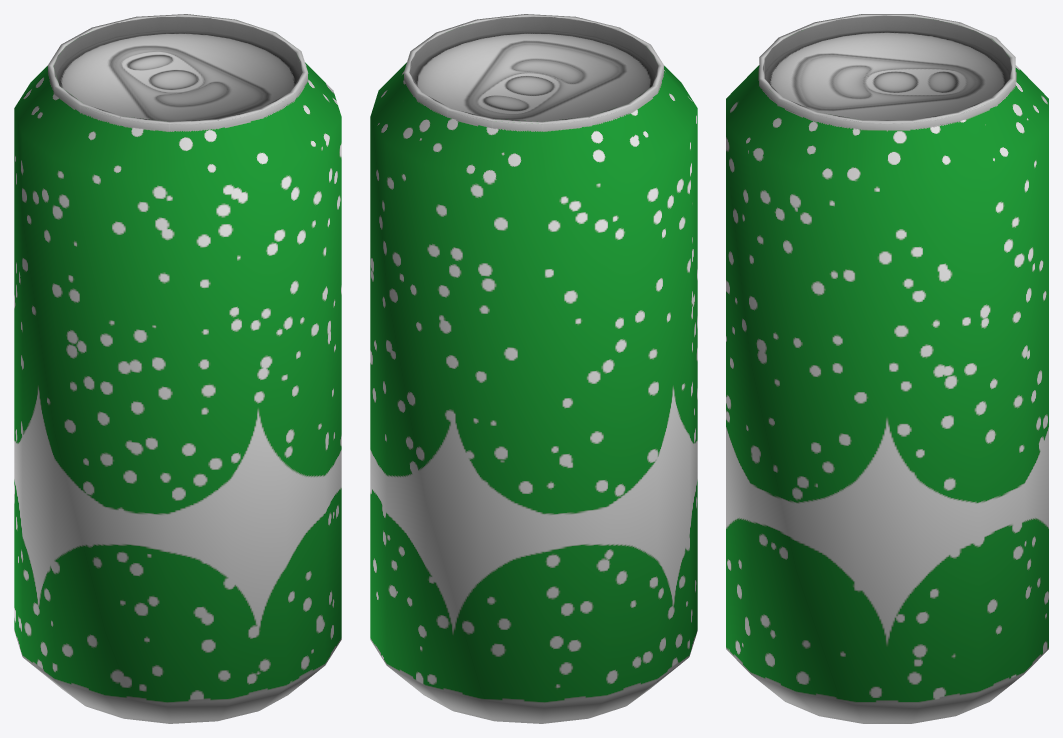
File: sodagreen.glb
The picture shows the model from 3 angles, left to right: view 1: azimuth 30°, elevation 25°; view 2: azimuth 150°, elevation 25°; view 3: azimuth 270°, elevation 25°; orthographic projection.
Parts seen in each view (by area): view 1: sodagreen; view 2: sodagreen; view 3: sodagreen.
Boxes of the visible parts, bbox=[...] form: sodagreen: bbox=[14, 14, 341, 723]; sodagreen: bbox=[370, 14, 697, 723]; sodagreen: bbox=[726, 14, 1048, 723].
Size of the model in its own units: 0.5842 by 1.21 by 0.5842.
Materials: 1 (1 with a texture image).
